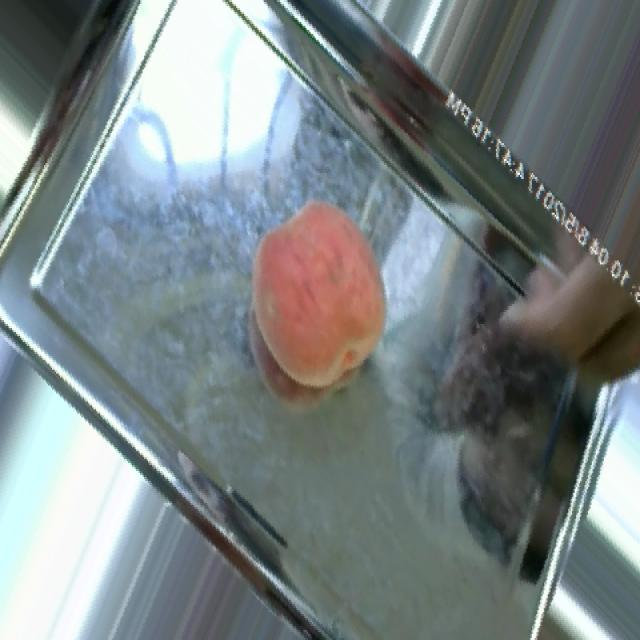Fruit: (231, 179, 409, 407)
